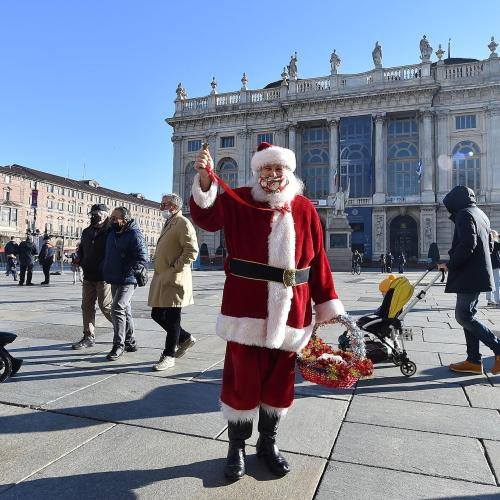Santa: (189, 141, 342, 481)
